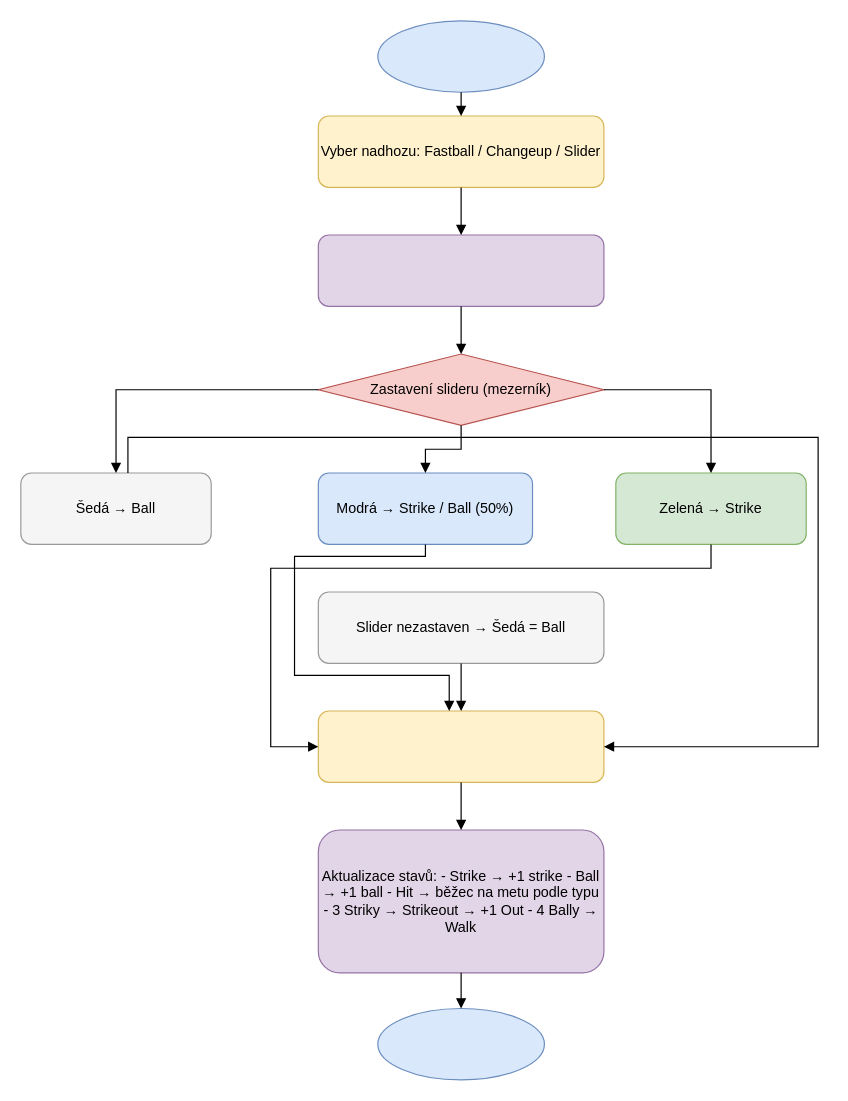
This 848x1101 diagram has some shape labels left out. Each missing label, with the centre of its shape:
Klikni 'Ready' → aktivuje se posuvník se 3 barvami: [460,270]
Konec Pitchingu: [460,1043]
Start Pitchingu: [460,56]
Vyhodnocení pálkaře: prošvihnul / odpálil / strike / ball: [460,746]
